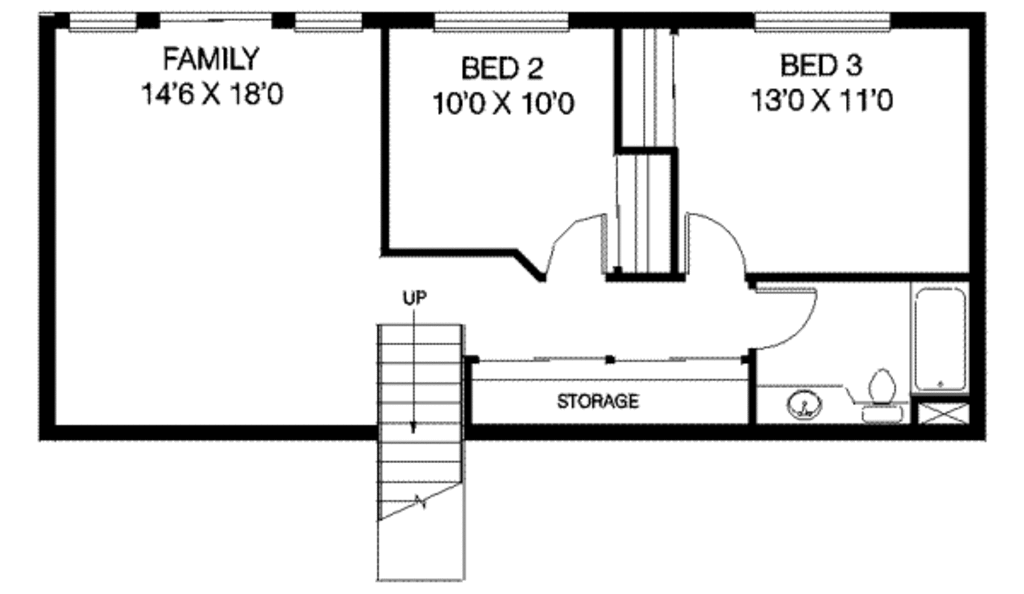door: (539, 206, 612, 286), (685, 205, 757, 286), (748, 280, 826, 351)
large_sink: (846, 358, 912, 426)
small_sink: (757, 385, 847, 425)
stairs: (374, 312, 477, 577)
tub: (911, 283, 971, 393)
window: (432, 7, 571, 38), (751, 10, 893, 30), (63, 8, 139, 37), (291, 9, 364, 36)
